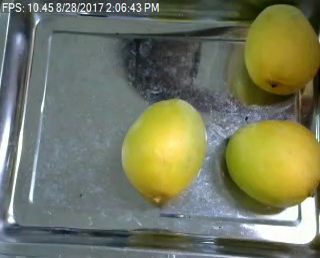Mango: (122, 95, 208, 204), (225, 115, 320, 207), (246, 1, 320, 94)
